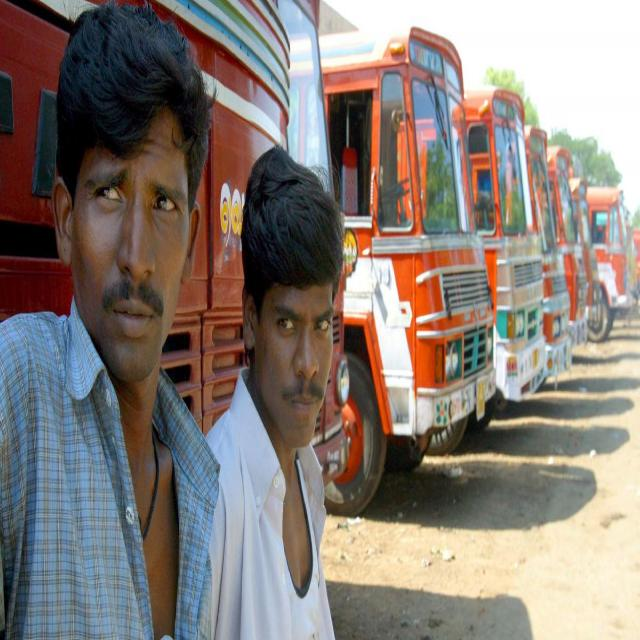Truck: (321, 21, 491, 518)
